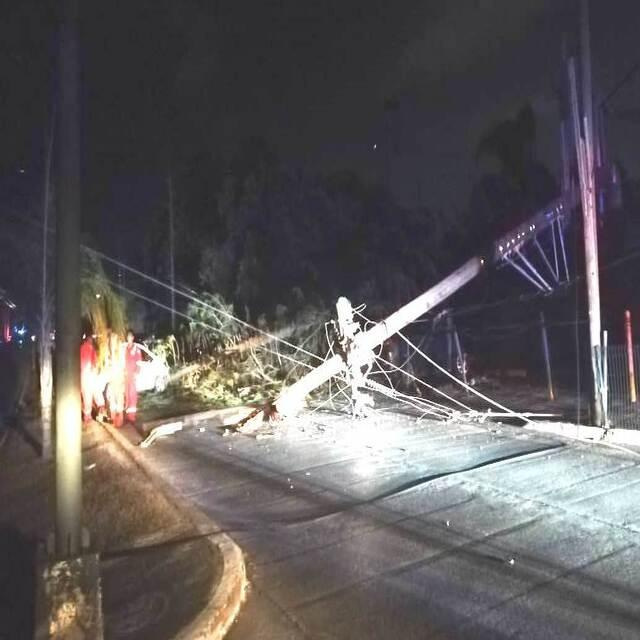Inclined Pole: (253, 49, 621, 423)
